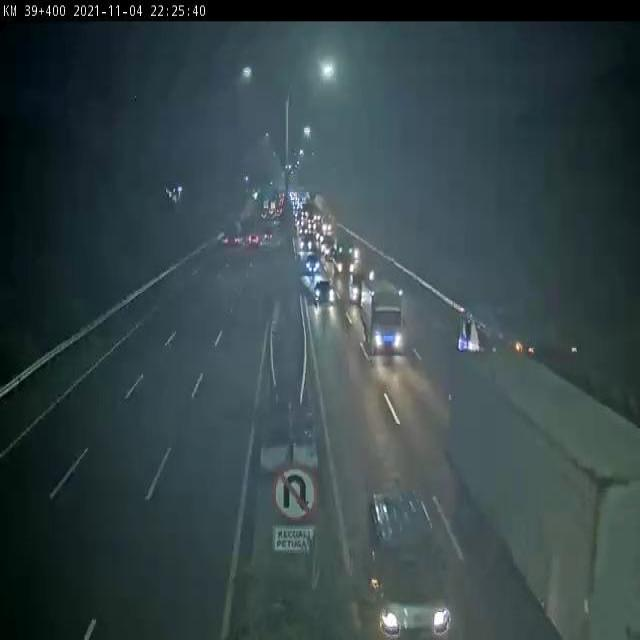car: (369, 492, 454, 640), (314, 278, 336, 306)
truck-m-: (366, 280, 406, 357)
